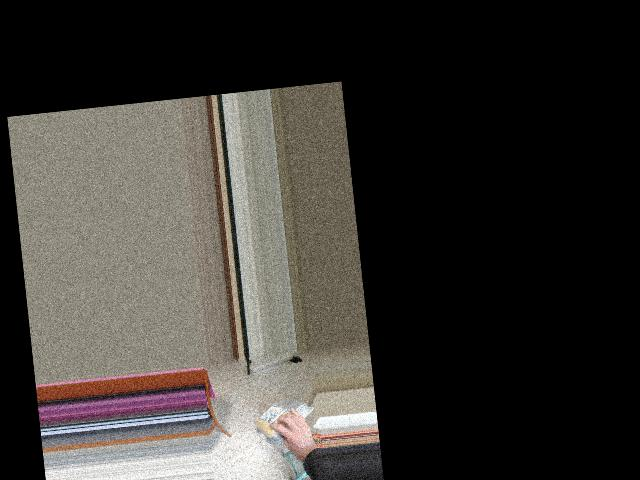cheese: (246, 402, 313, 436)
